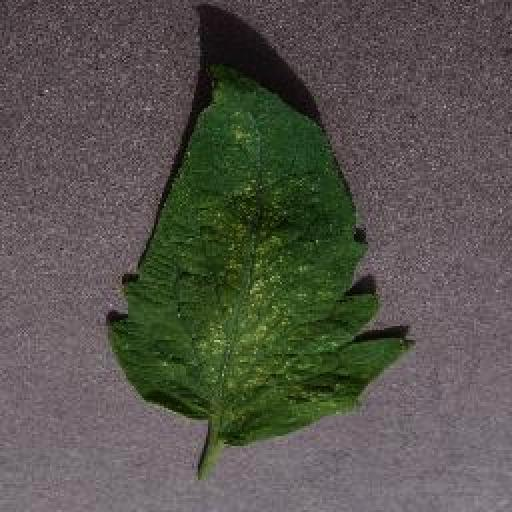disease_tomato: (102, 60, 416, 452)
